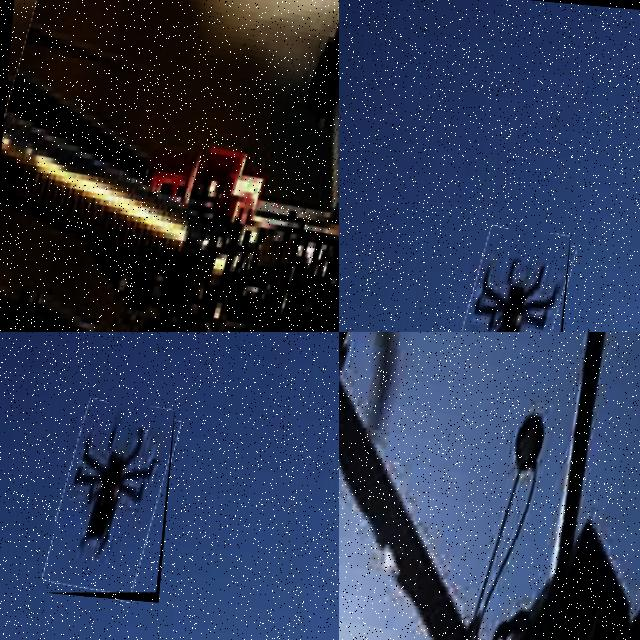drone: (0, 0, 339, 332), (339, 332, 640, 640), (49, 398, 174, 602), (453, 225, 570, 332)
